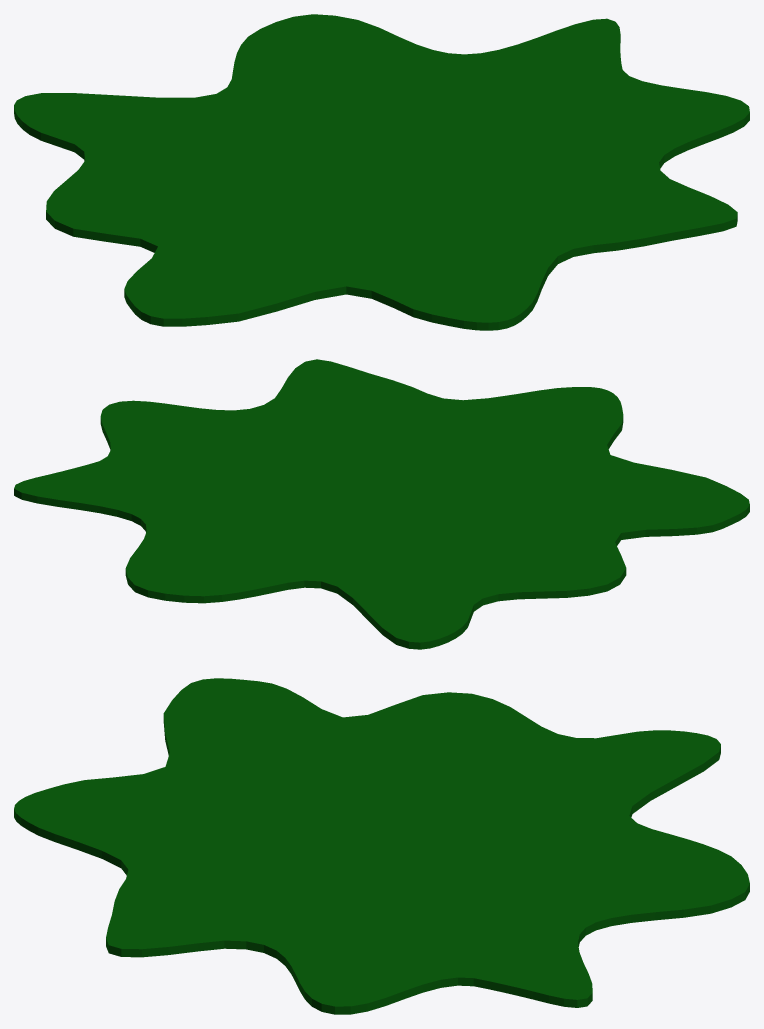
The model's file is lettuce.FBX.
3 renders of one model, top to bottom at view 1: azimuth 30°, elevation 25°; view 2: azimuth 150°, elevation 25°; view 3: azimuth 270°, elevation 25°, orthographic. The views are drawn at different scales.
Parts seen in each view (by area): view 1: Lettuce1; view 2: Lettuce1; view 3: Lettuce1.
Boxes of the visible parts, x1,y1,x2,y2 form: Lettuce1: [14, 14, 749, 330]; Lettuce1: [14, 359, 749, 649]; Lettuce1: [14, 678, 749, 1014].
Bounding box in the file's own units: 0.00118 × 1.36e-05 × 0.00112.
